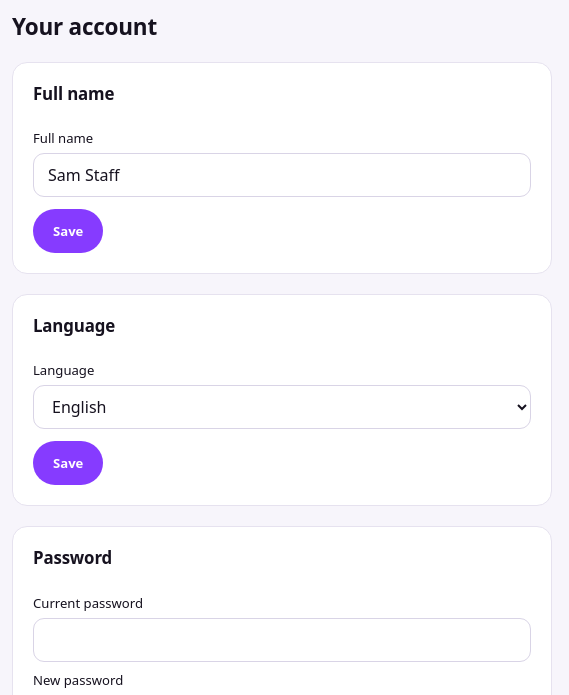
Test case: AccountPage › starts from the stored name and saves a new one
This screenshot has width=569, height=695.
Replace the text in the field labelled "Full name" with "Sam Stone" at {"x": 282, "y": 175}, box left=33, top=153, right=531, bottom=197
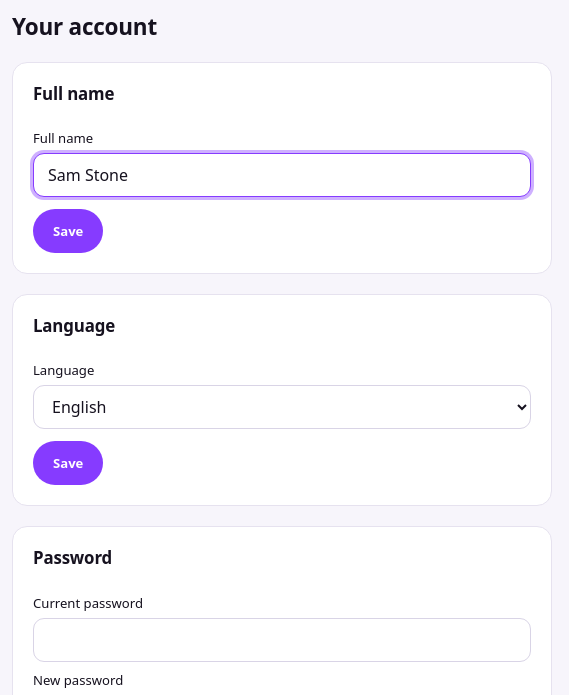
Click the 1st button "Save" at {"x": 68, "y": 231}, box left=33, top=209, right=103, bottom=253
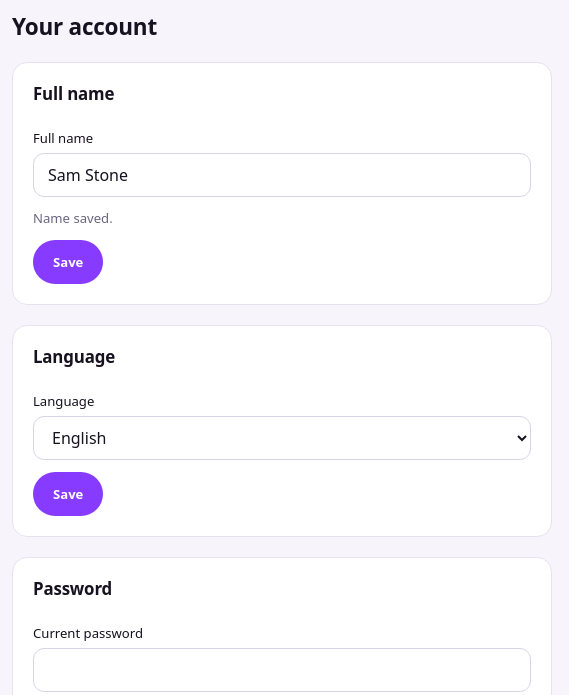
Now the text "Name saved." is shown, box left=33, top=209, right=113, bottom=227
